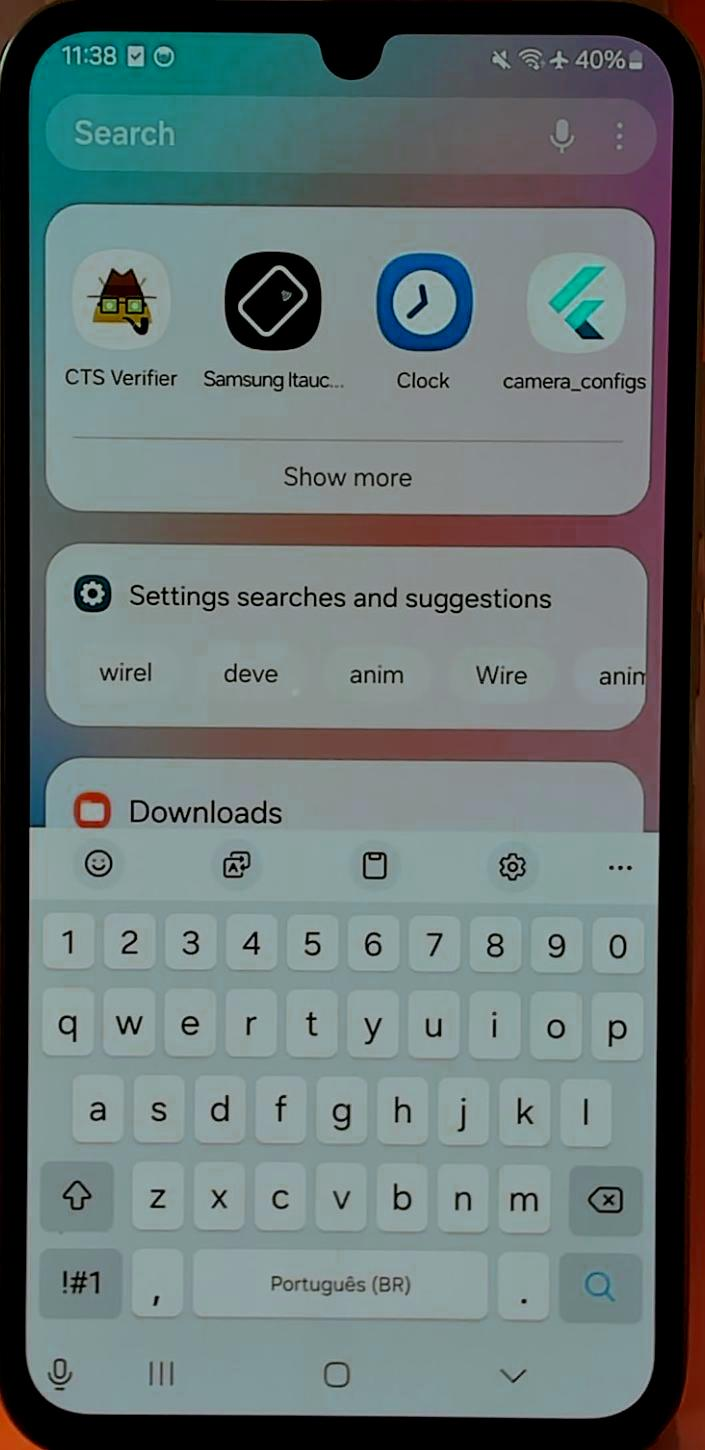CommunBotton: (504, 248, 652, 406), (206, 244, 350, 402), (56, 244, 188, 386), (372, 244, 482, 402), (74, 636, 182, 712), (320, 640, 430, 710), (220, 836, 268, 890), (348, 838, 396, 892), (72, 844, 128, 886), (492, 840, 536, 892), (318, 1350, 366, 1396), (144, 1346, 180, 1402), (504, 1356, 536, 1402)
TextField: (46, 88, 662, 176)
TextKeyboard: (36, 894, 654, 1326)
menu: (607, 104, 643, 166)
